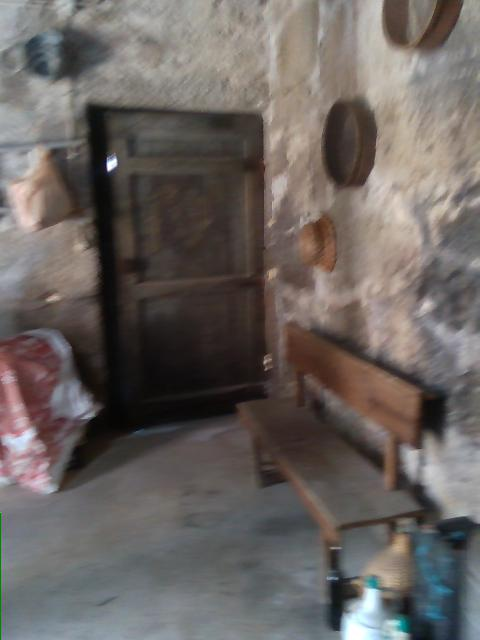door: (88, 103, 268, 439)
